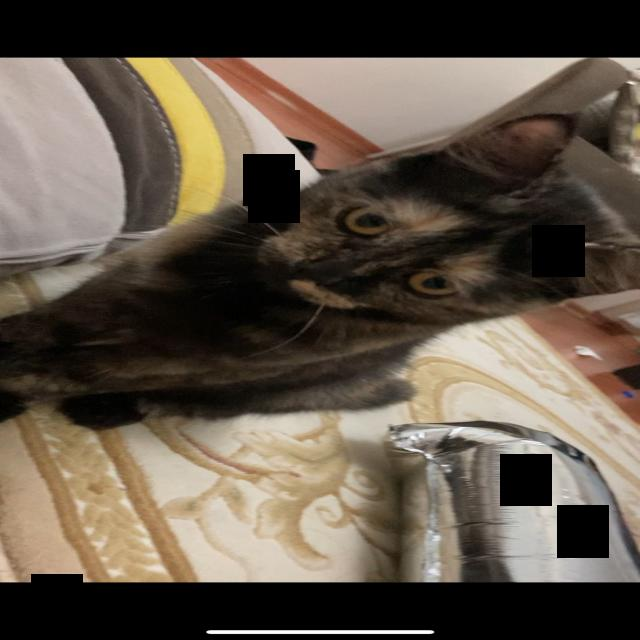authorized: (1, 112, 638, 431)
